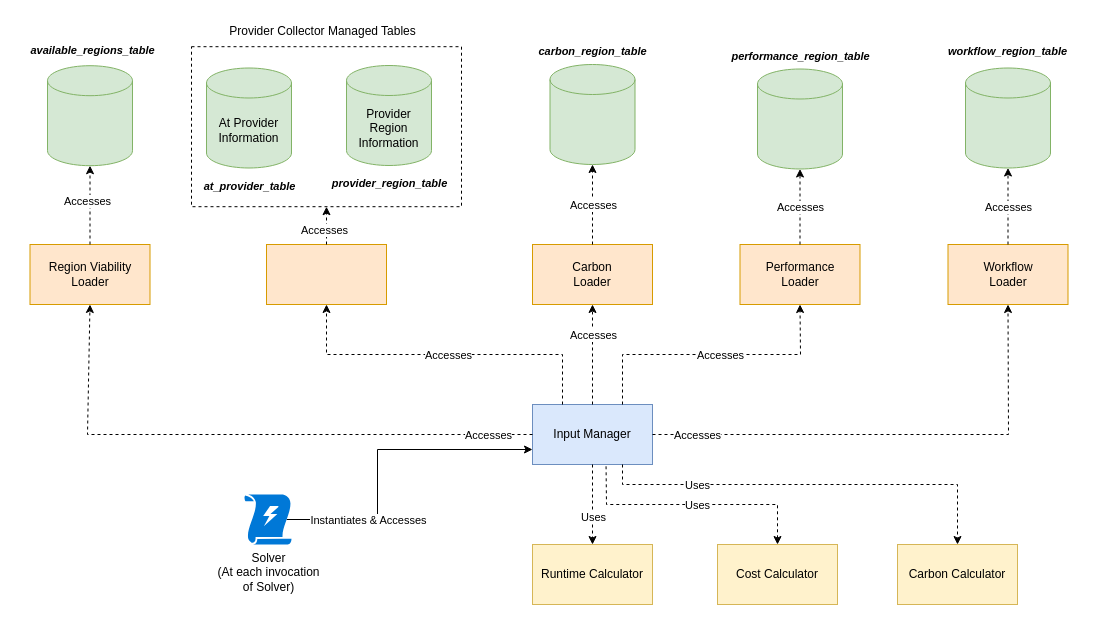
This 1094x623 diagram has some shape labels left out. Each missing label, with the centre of its shape:
"Available Regions" goes at (x=89, y=115).
"Carbon Region Information" goes at (x=592, y=114).
"Datacenter Loader" goes at (x=326, y=274).
"Performance Region Information" goes at (x=799, y=118).
"Workflow Region Information" goes at (x=1007, y=117).
